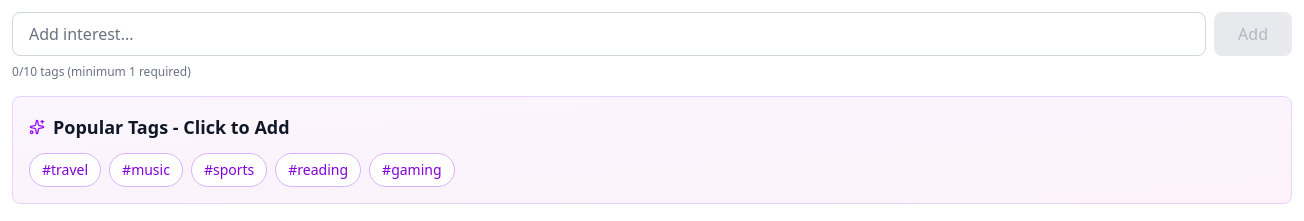
TagSelector Component › Suggestions › should show suggestions when typing
In the field with placeholder "Add interest...": {"x": 609, "y": 34} x1=12 y1=12 x2=1206 y2=56, type "co"
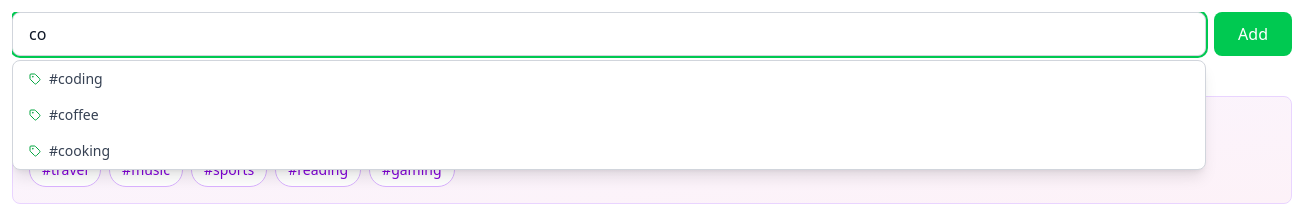
Expected: the text "#coding" is shown, x1=49 y1=69 x2=103 y2=89
Expected: the text "#coffee" is shown, x1=49 y1=105 x2=99 y2=125
Expected: the text "#cooking" is shown, x1=49 y1=141 x2=110 y2=161
